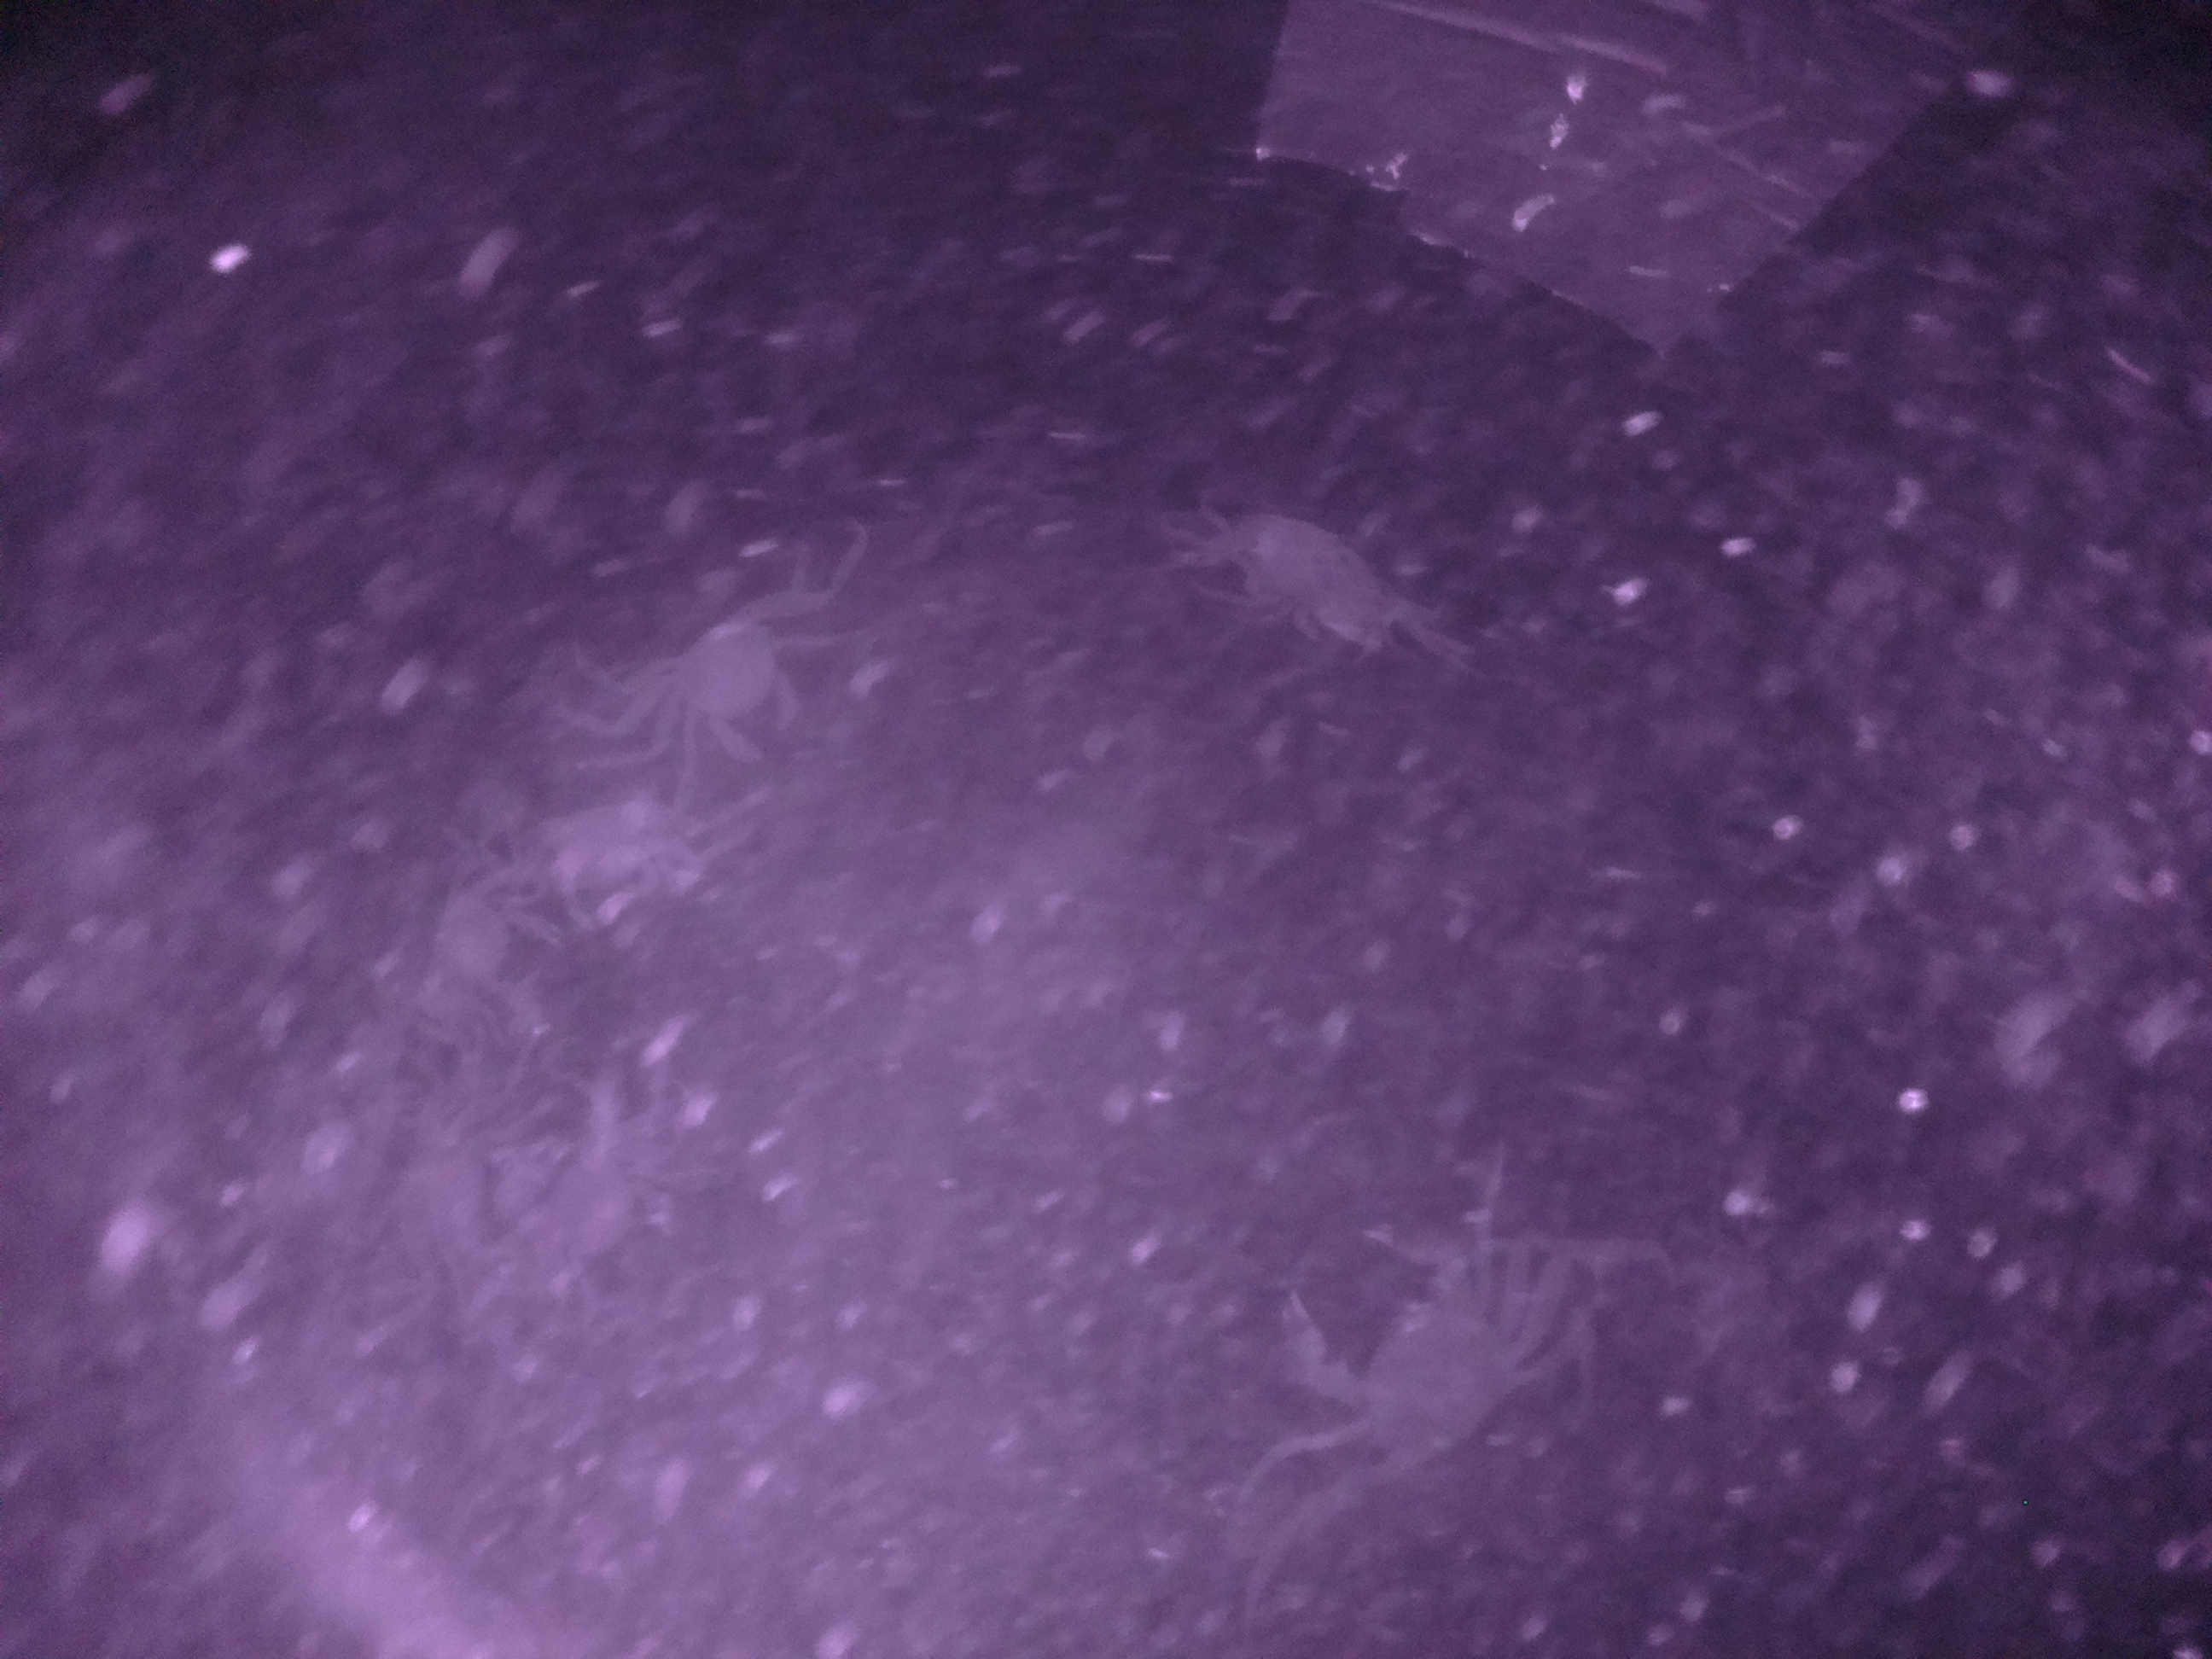Crab: (1226, 1185, 1575, 1520), (636, 577, 850, 791)
